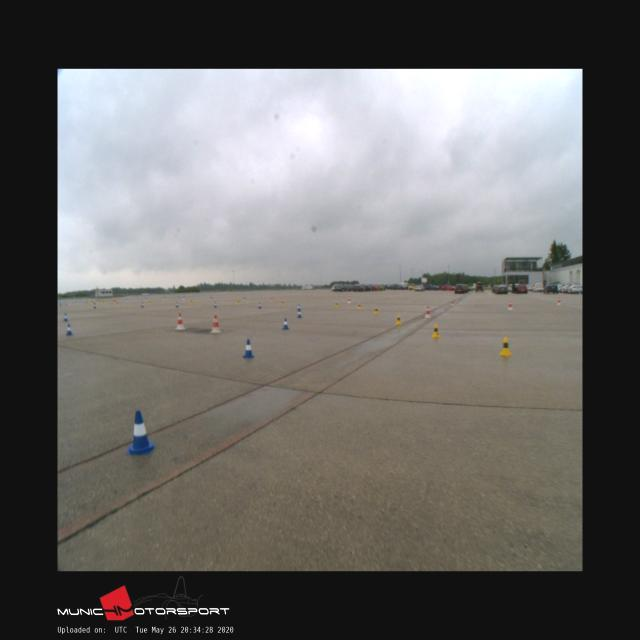blue_cone: (125, 411, 155, 454), (242, 340, 255, 358), (282, 318, 290, 329), (66, 324, 72, 336), (296, 308, 302, 318), (63, 313, 68, 321), (298, 304, 302, 310)
yellow_cone: (499, 337, 512, 356), (432, 324, 439, 338), (396, 315, 402, 325), (374, 306, 378, 314), (358, 302, 362, 308), (334, 301, 338, 307)
